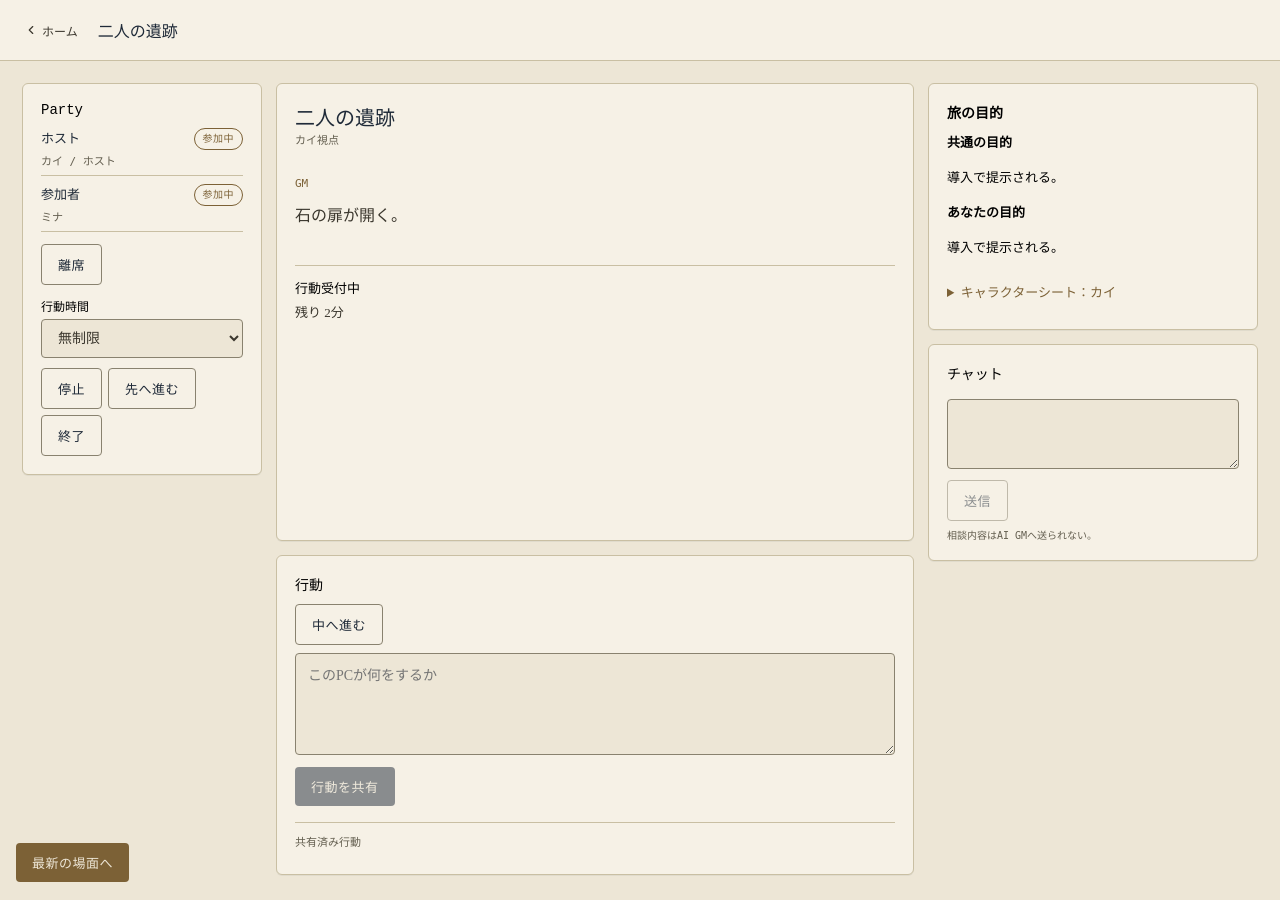
Test: updates the GM state even while chat is stuck, and retains a failed draft within the round and clears it in the next round
This screenshot has width=1280, height=900.
Type "失いたくない下書き" into the text box named "自分の行動".
click(595, 704); type("失いたくない下書き")  # box top-left (295, 653), bottom-right (895, 755)
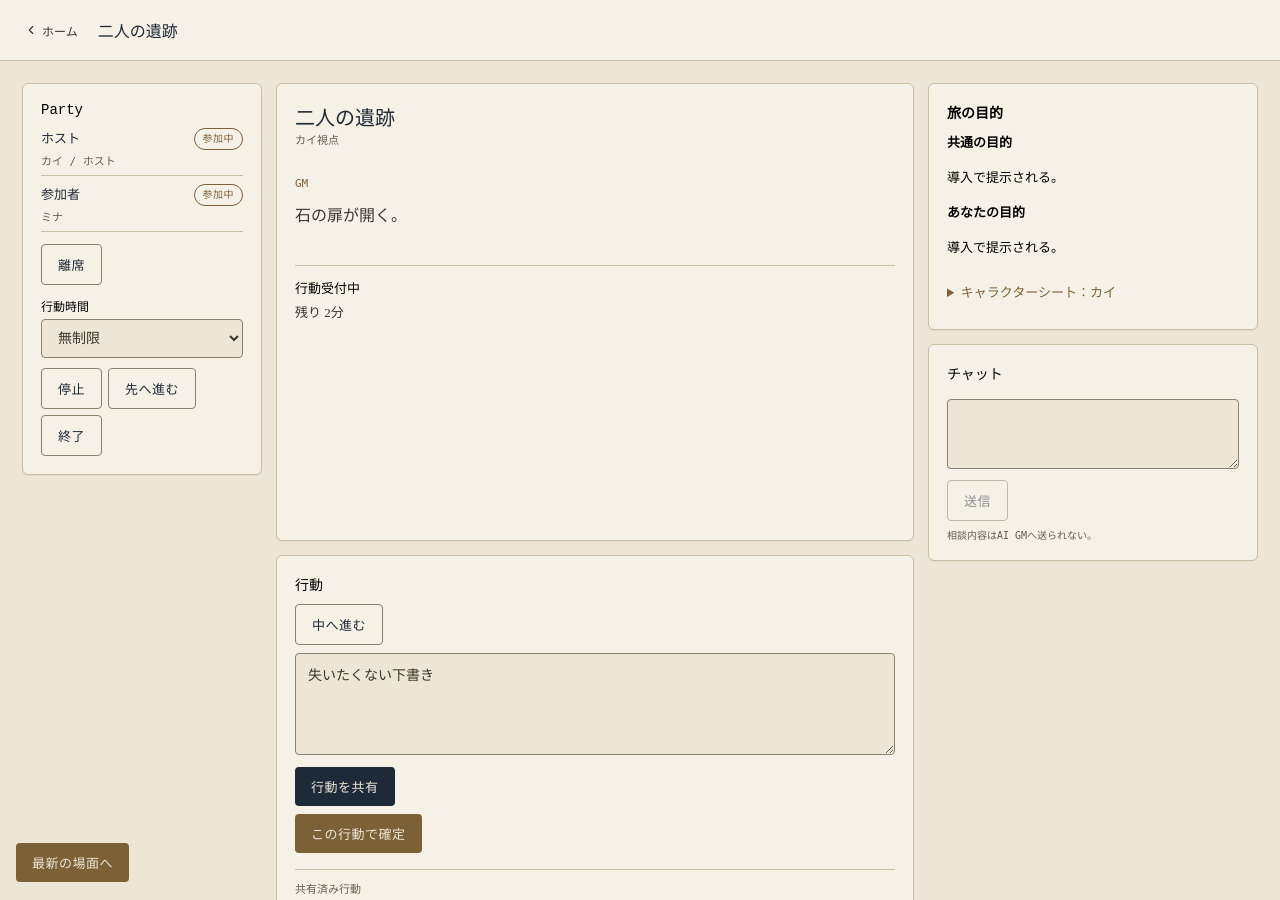
Click the button "この行動で確定".
click(358, 834)  # box top-left (295, 814), bottom-right (422, 853)
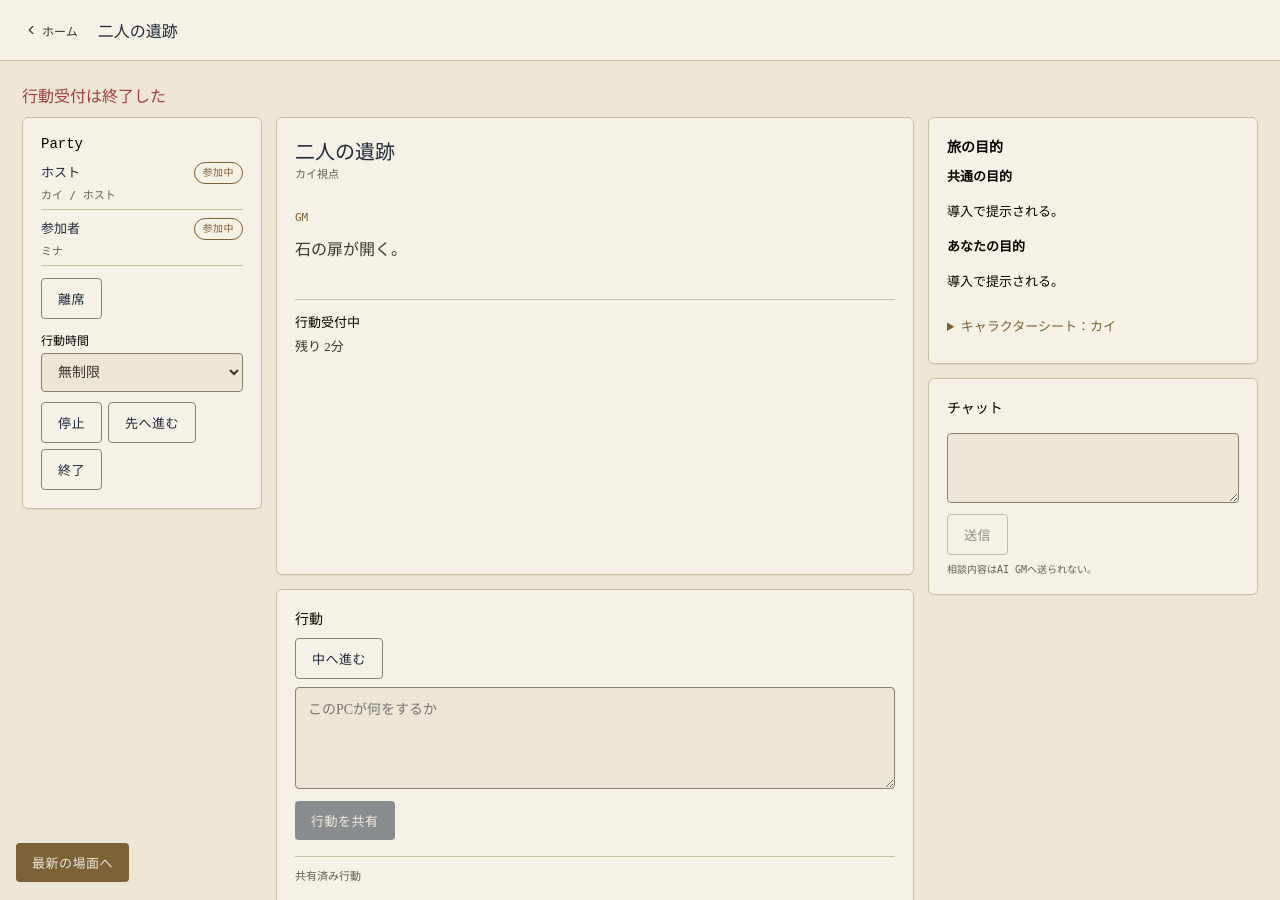
Expected: the text "全員の行動を一度に解決中…" is shown, top-left (295, 315), bottom-right (360, 330)
Expected: the message "行動受付は終了した" is shown, top-left (22, 88), bottom-right (166, 105)
Expected: the text box named "自分の行動" is empty, top-left (295, 687), bottom-right (895, 789)
